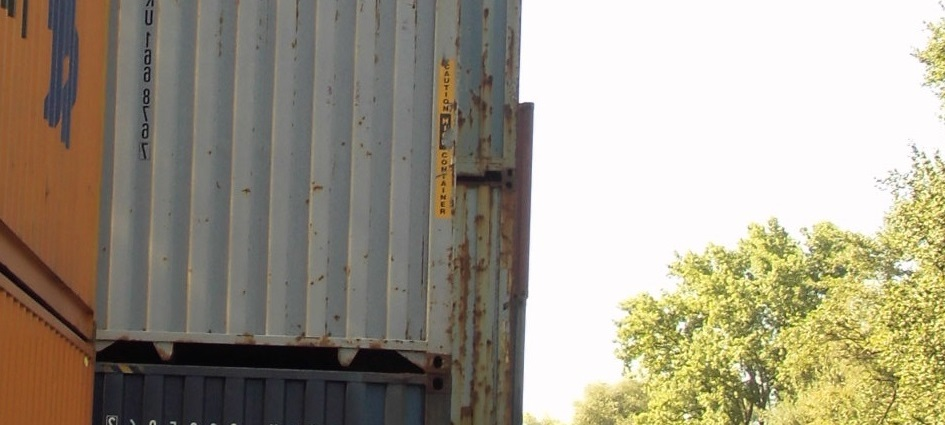container_no_door: (104, 1, 491, 349)
